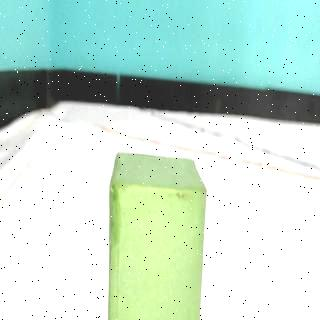greenbox: (108, 150, 210, 320)
